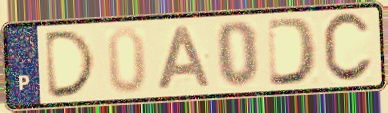0: (213, 19, 262, 90), (105, 25, 149, 96)
A: (154, 24, 213, 93)
C: (320, 10, 375, 86)
D: (43, 27, 100, 101), (265, 15, 321, 88)
